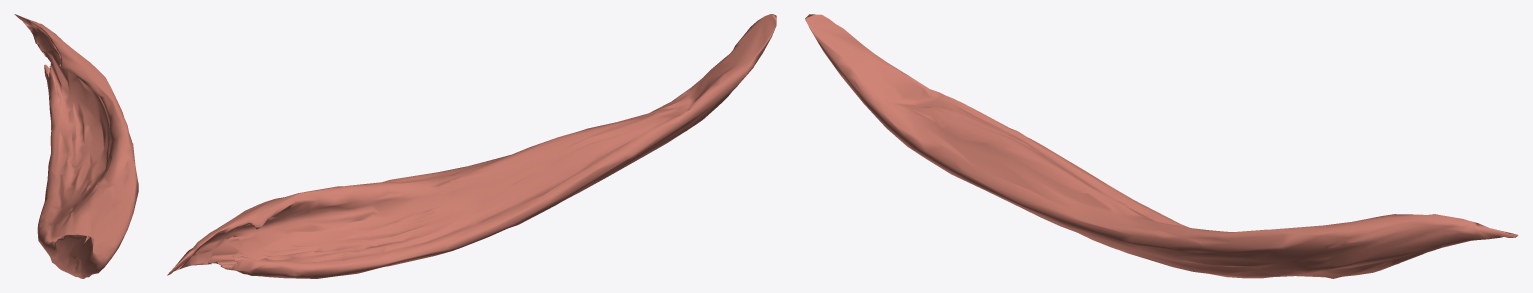
The picture shows the model from 3 angles, left to right: view 1: azimuth 30°, elevation 25°; view 2: azimuth 150°, elevation 25°; view 3: azimuth 270°, elevation 25°; orthographic projection. The views are drawn at different scales.
Parts seen in each view (by area): view 1: 左侧旋前圆肌肱头; view 2: 左侧旋前圆肌肱头; view 3: 左侧旋前圆肌肱头.
Boxes of the visible parts, x1,y1,x2,y2 form: 左侧旋前圆肌肱头: (14,14,138,278); 左侧旋前圆肌肱头: (167,14,776,278); 左侧旋前圆肌肱头: (805,14,1518,278).
Size of the model in its own units: 0.1063 by 0.0532 by 0.2219.
